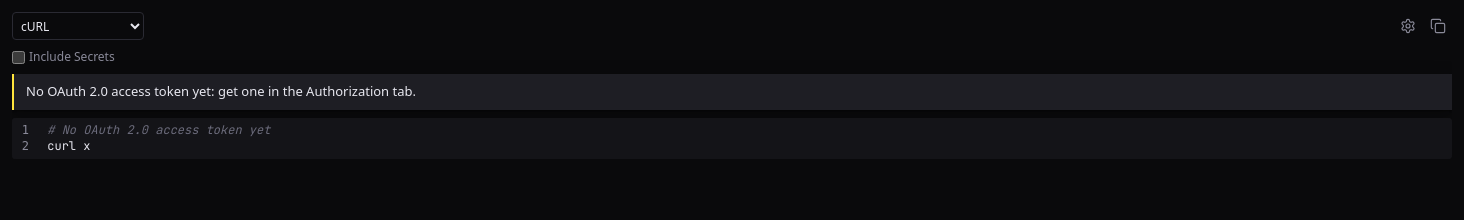
Scenario: CodePanel › shows notices and errors
Expected: the text "No OAuth 2.0 access token yet: get one in the Authorization tab." is shown, 26,82 -> 416,100
What coordinates should you click on to do the following:
click the button named "Copy snippet"
I would click on:
 (1438, 26)
Its box is 1424,12 -> 1452,40.
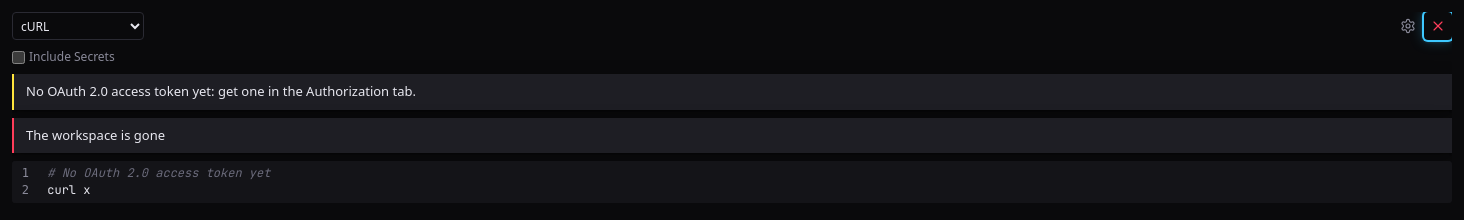
Expected: the message "The workspace is gone" is shown, 12,118 -> 1452,153
